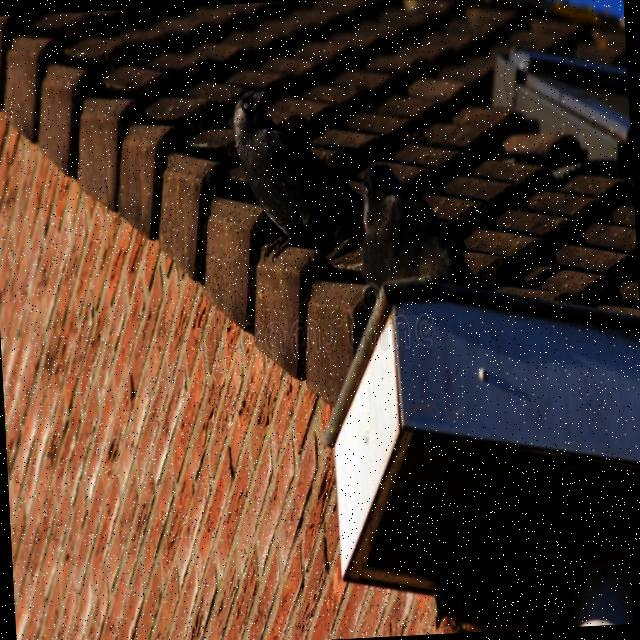bird: (228, 82, 367, 257), (354, 157, 482, 296)
